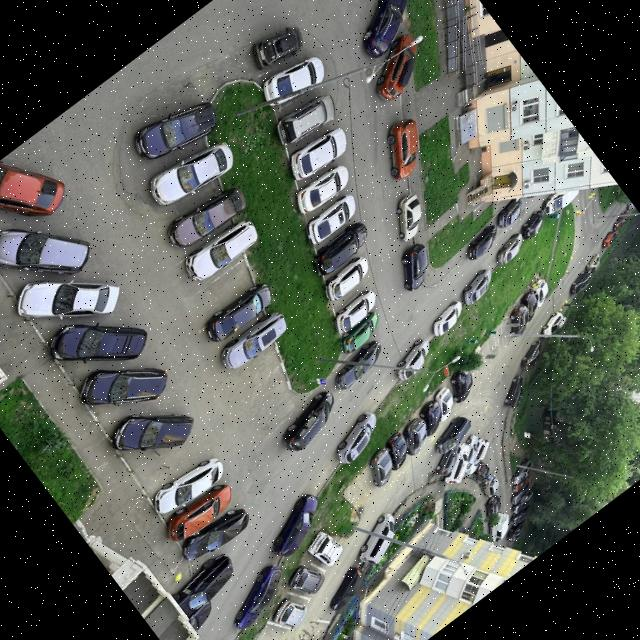car: (151, 139, 236, 207), (168, 184, 249, 248), (134, 99, 219, 159), (186, 219, 261, 282), (0, 226, 93, 276), (172, 552, 236, 618), (18, 279, 123, 319), (165, 483, 233, 544), (154, 456, 225, 514), (78, 363, 171, 406), (49, 322, 151, 361), (220, 311, 288, 369), (181, 507, 251, 561), (207, 283, 272, 341), (0, 162, 65, 217), (233, 561, 283, 630), (284, 389, 337, 453), (111, 413, 196, 452), (313, 220, 371, 277), (375, 32, 422, 102), (263, 55, 326, 107), (272, 491, 319, 559), (291, 127, 350, 181), (277, 93, 338, 144), (305, 192, 359, 246), (363, 0, 410, 59), (298, 163, 352, 214), (334, 338, 384, 391), (250, 26, 304, 70), (337, 412, 379, 465), (325, 255, 371, 302), (389, 116, 422, 181), (357, 512, 397, 564), (334, 288, 379, 334), (338, 311, 380, 355), (399, 239, 431, 291), (330, 566, 365, 611), (435, 415, 474, 455), (396, 337, 432, 380), (305, 530, 345, 568), (467, 222, 499, 261), (399, 191, 423, 242), (431, 299, 463, 337), (463, 266, 494, 305), (444, 441, 472, 483), (289, 565, 327, 595), (272, 598, 308, 629), (419, 397, 444, 438), (369, 448, 394, 487), (465, 438, 492, 474), (542, 190, 579, 216), (451, 366, 476, 403), (498, 232, 523, 268), (188, 600, 215, 633), (406, 416, 428, 456), (386, 430, 407, 470), (497, 197, 523, 229), (434, 384, 454, 423), (522, 209, 546, 241), (541, 310, 568, 338), (511, 302, 530, 339), (435, 446, 458, 476), (512, 457, 535, 486), (521, 340, 543, 370), (505, 375, 524, 408), (490, 509, 509, 542), (510, 479, 535, 504), (571, 269, 594, 295), (532, 276, 550, 308), (507, 517, 527, 544), (512, 490, 535, 513), (511, 470, 535, 492), (484, 494, 505, 519), (466, 433, 479, 473), (522, 291, 539, 321), (510, 503, 532, 525), (481, 475, 501, 499), (472, 461, 492, 482), (615, 211, 633, 230), (603, 229, 619, 248), (586, 254, 601, 273)
